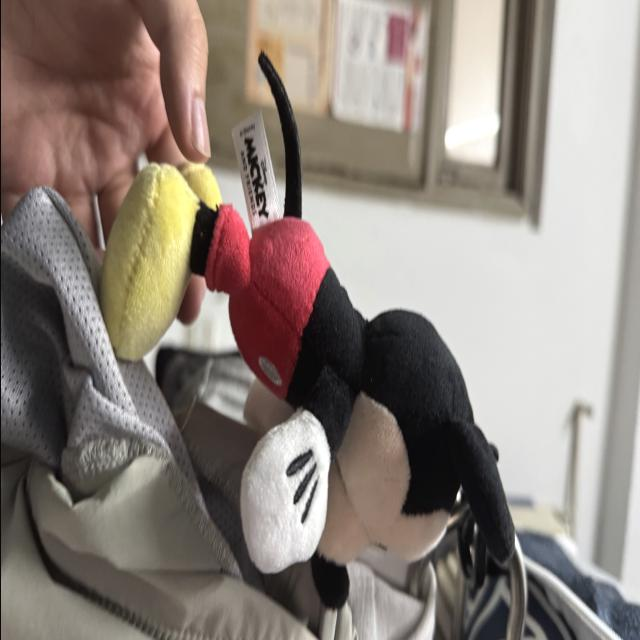mickey: (100, 54, 513, 607)
